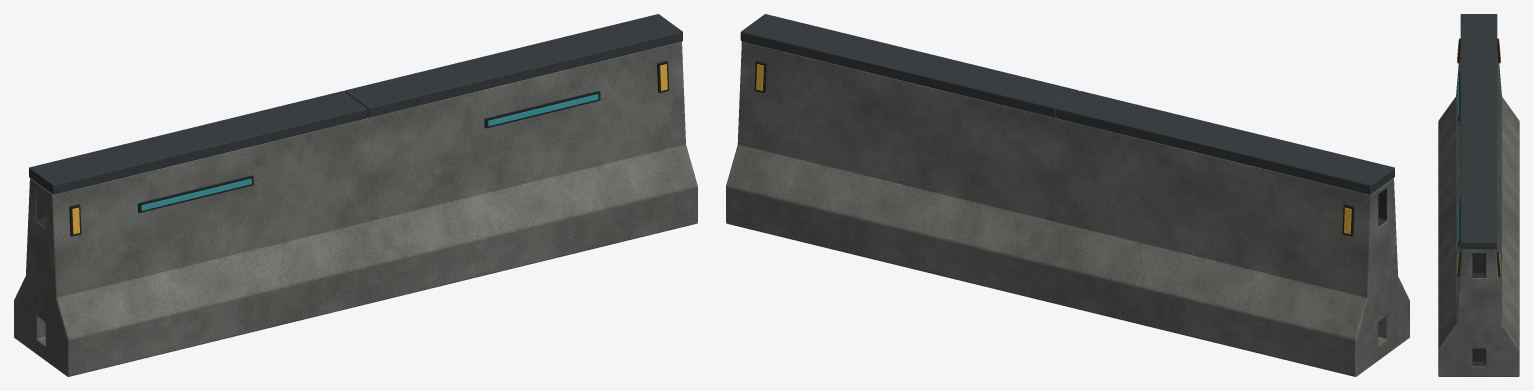
File: trackside_barrier.glb
3 views of the same model, side by side, from view 1: azimuth 30°, elevation 25°; view 2: azimuth 150°, elevation 25°; view 3: azimuth 270°, elevation 25° (orthographic). The views are drawn at different scales.
Visible parts, largest first — view 1: Precast concrete, Graphite galvanized cap, Reflector gasket, Cyan passive reflector; view 2: Precast concrete, Graphite galvanized cap; view 3: Precast concrete, Graphite galvanized cap, Reflector gasket, Recess lining, Cyan passive reflector, Amber passive reflector.
Boxes of the visible parts, x1,y1,x2,y2 form: Precast concrete: [14, 41, 697, 376]; Graphite galvanized cap: [29, 14, 682, 194]; Reflector gasket: [69, 61, 669, 236]; Cyan passive reflector: [141, 94, 598, 210]; Precast concrete: [726, 41, 1409, 376]; Graphite galvanized cap: [740, 14, 1394, 194]; Precast concrete: [1438, 50, 1519, 376]; Graphite galvanized cap: [1460, 14, 1497, 249]; Reflector gasket: [1457, 38, 1500, 276]; Recess lining: [1473, 253, 1484, 361]; Cyan passive reflector: [1457, 75, 1458, 244]; Amber passive reflector: [1457, 40, 1500, 274].
Bounding box in the file's own units: 4 × 1.1 × 0.6.
Materials: 7 (2 with a texture image).
